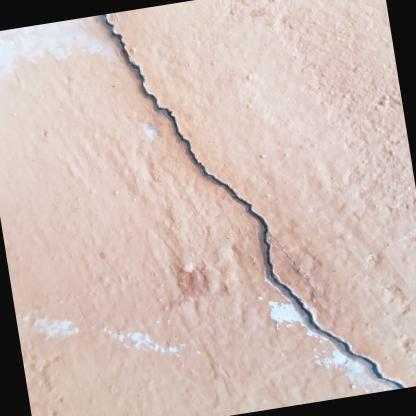crack: (102, 13, 407, 389)
